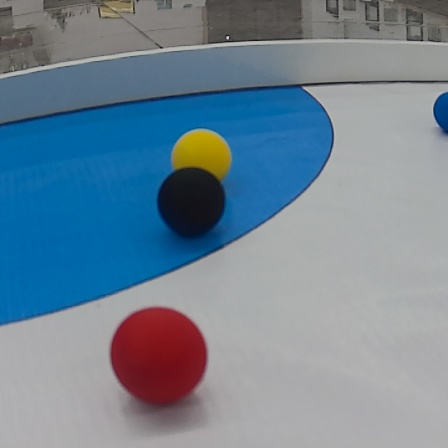black: (155, 165, 227, 240)
blue_base: (3, 82, 336, 324)
red: (108, 305, 209, 408)
yellow: (170, 126, 234, 186)
